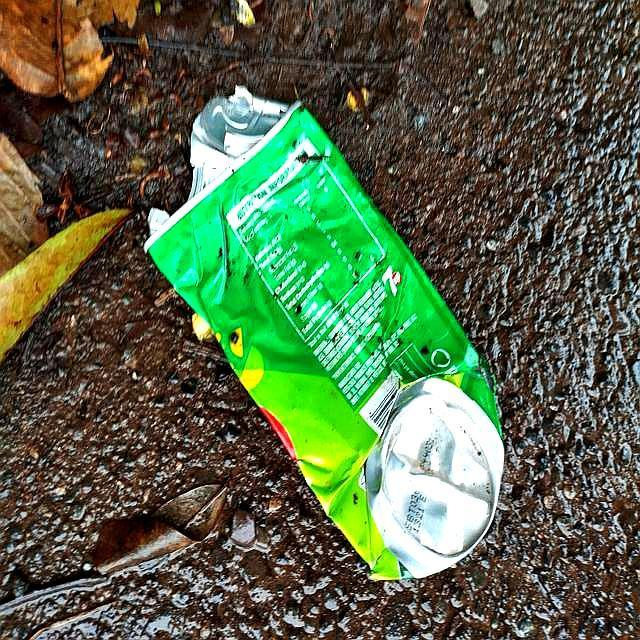Non-biodegradable: (143, 92, 508, 583)
